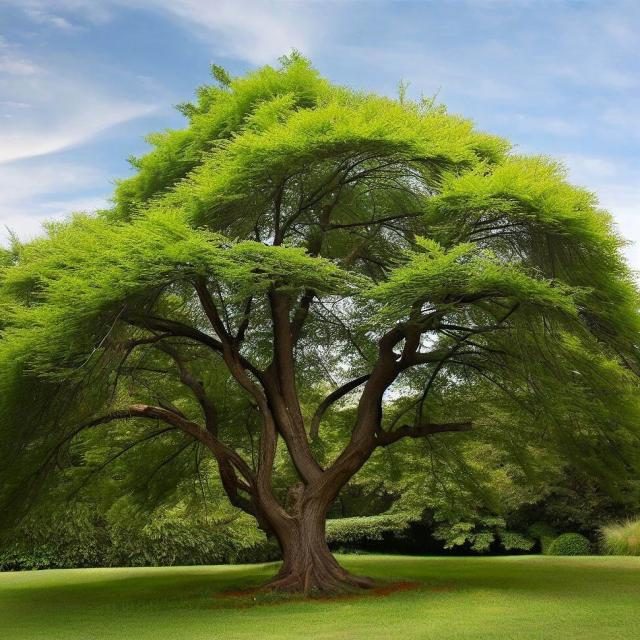Tree: (0, 64, 631, 599)
